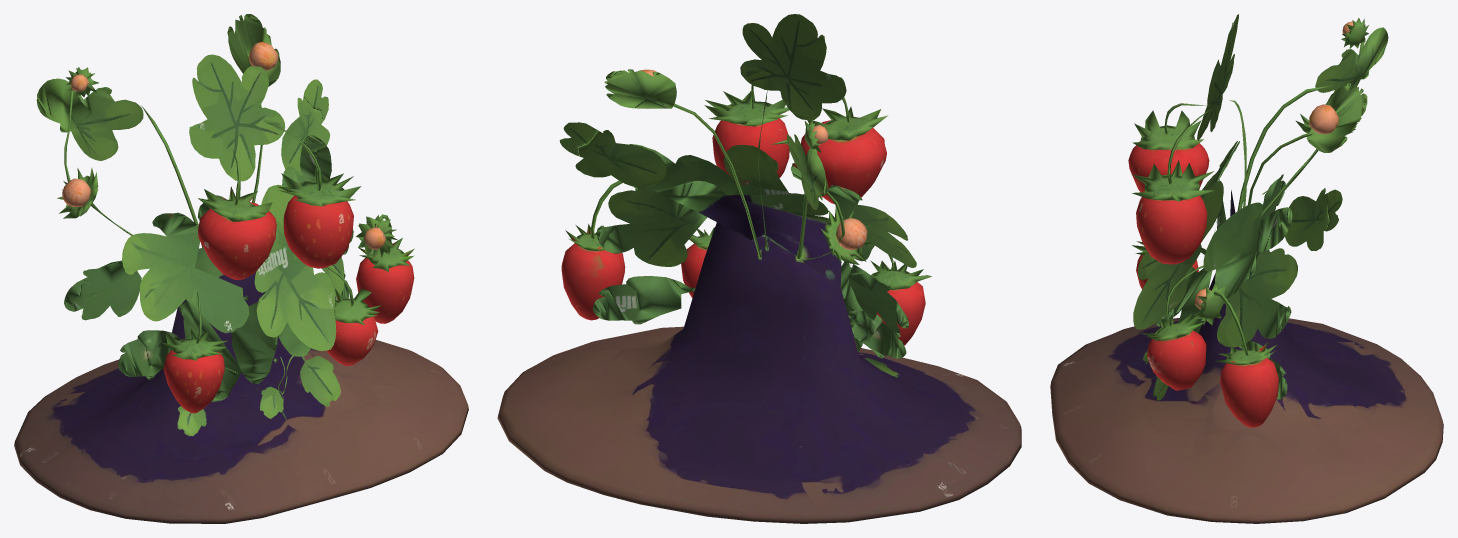
File: bush.glb
3 renders of one model, left to right at view 1: azimuth 30°, elevation 25°; view 2: azimuth 150°, elevation 25°; view 3: azimuth 270°, elevation 25°, orthographic. The views are drawn at different scales.
Visible parts, largest first — view 1: Crimson Berry Blossom Bush; view 2: Crimson Berry Blossom Bush; view 3: Crimson Berry Blossom Bush.
Boxes of the visible parts, x1,y1,x2,y2 form: Crimson Berry Blossom Bush: (14, 14, 468, 523); Crimson Berry Blossom Bush: (497, 14, 1021, 523); Crimson Berry Blossom Bush: (1050, 14, 1443, 523).
Size of the model in its own units: 0.998 by 0.8848 by 0.8066.
Materials: 1 (1 with a texture image).
